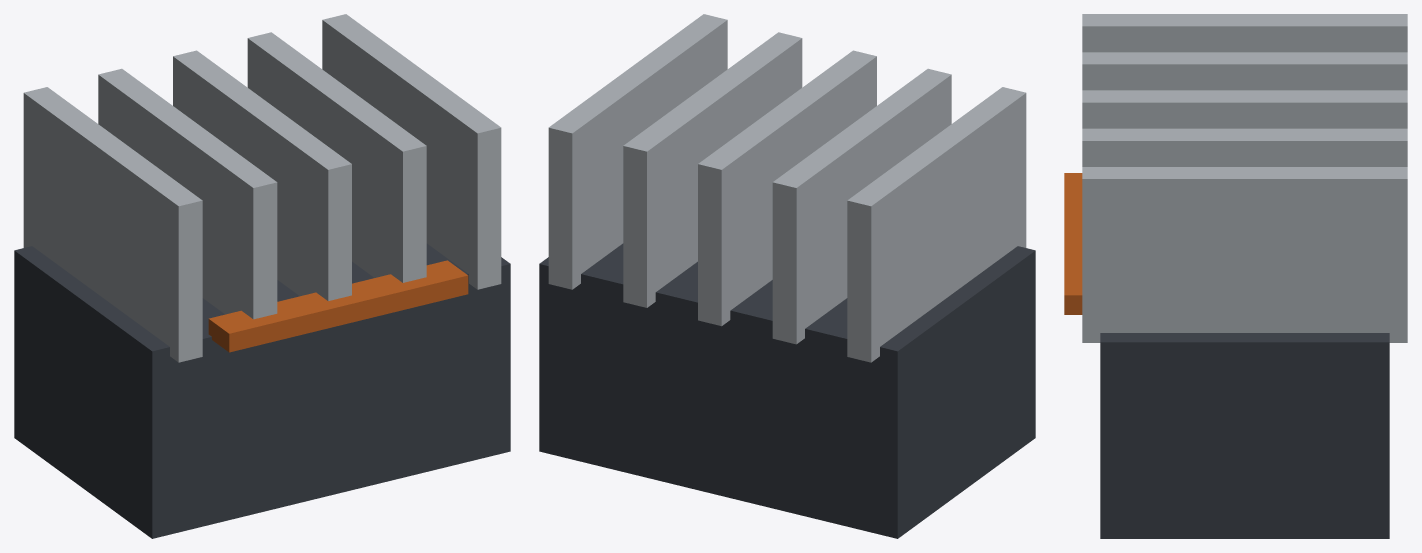
The model's file is mod-amplifier.lod.glb.
3 renders of one model, left to right at view 1: azimuth 30°, elevation 25°; view 2: azimuth 150°, elevation 25°; view 3: azimuth 270°, elevation 25°, orthographic. The views are drawn at different scales.
Parts seen in each view (by area): view 1: m; view 2: m; view 3: m.
Part boxes in pixels (left/top/right/bottom): m: left=14, top=14, right=510, bottom=538; m: left=539, top=14, right=1035, bottom=538; m: left=1064, top=14, right=1407, bottom=538.
Bounding box in the file's own units: 0.06 × 0.0535 × 0.0475.
